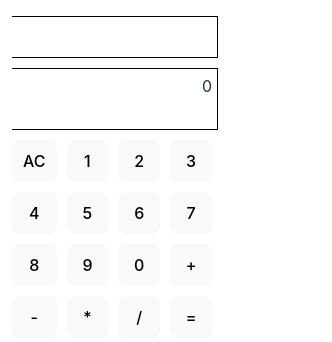
Test: Calculator component › Operação de adição (+)
This screenshot has width=332, height=342.
Note: Simula a inserção dos números 5 e 6
What coordinates should you click on to do the following:
click the button with test id "button-5"
I would click on:
 (87, 213)
Its box is 66,192 -> 108,234.
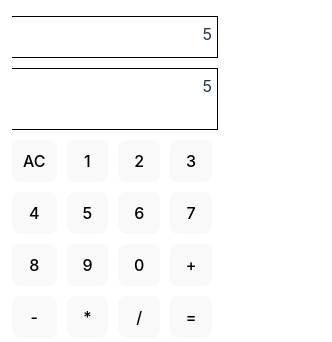
What coordinates should you click on to do the following:
click the button with test id "button-6"
I would click on:
 (139, 213)
Its box is 118,192 -> 160,234.
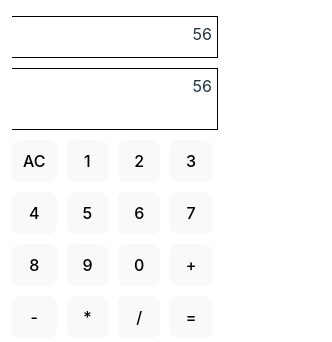
Note: Simula a operação de adição (+)
What coordinates should you click on to do the following:
click the button "+"
I would click on:
 (191, 265)
Its box is 170,244 -> 212,286.
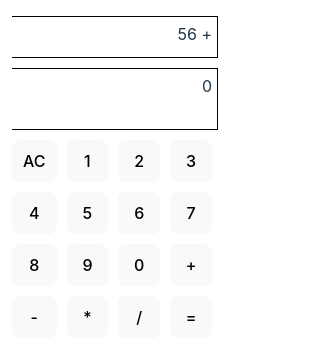
Check: the text with test id "display" reads "0", box 202,76 -> 212,96
Check: the text "56 +" is shown, box 6,16 -> 218,58
